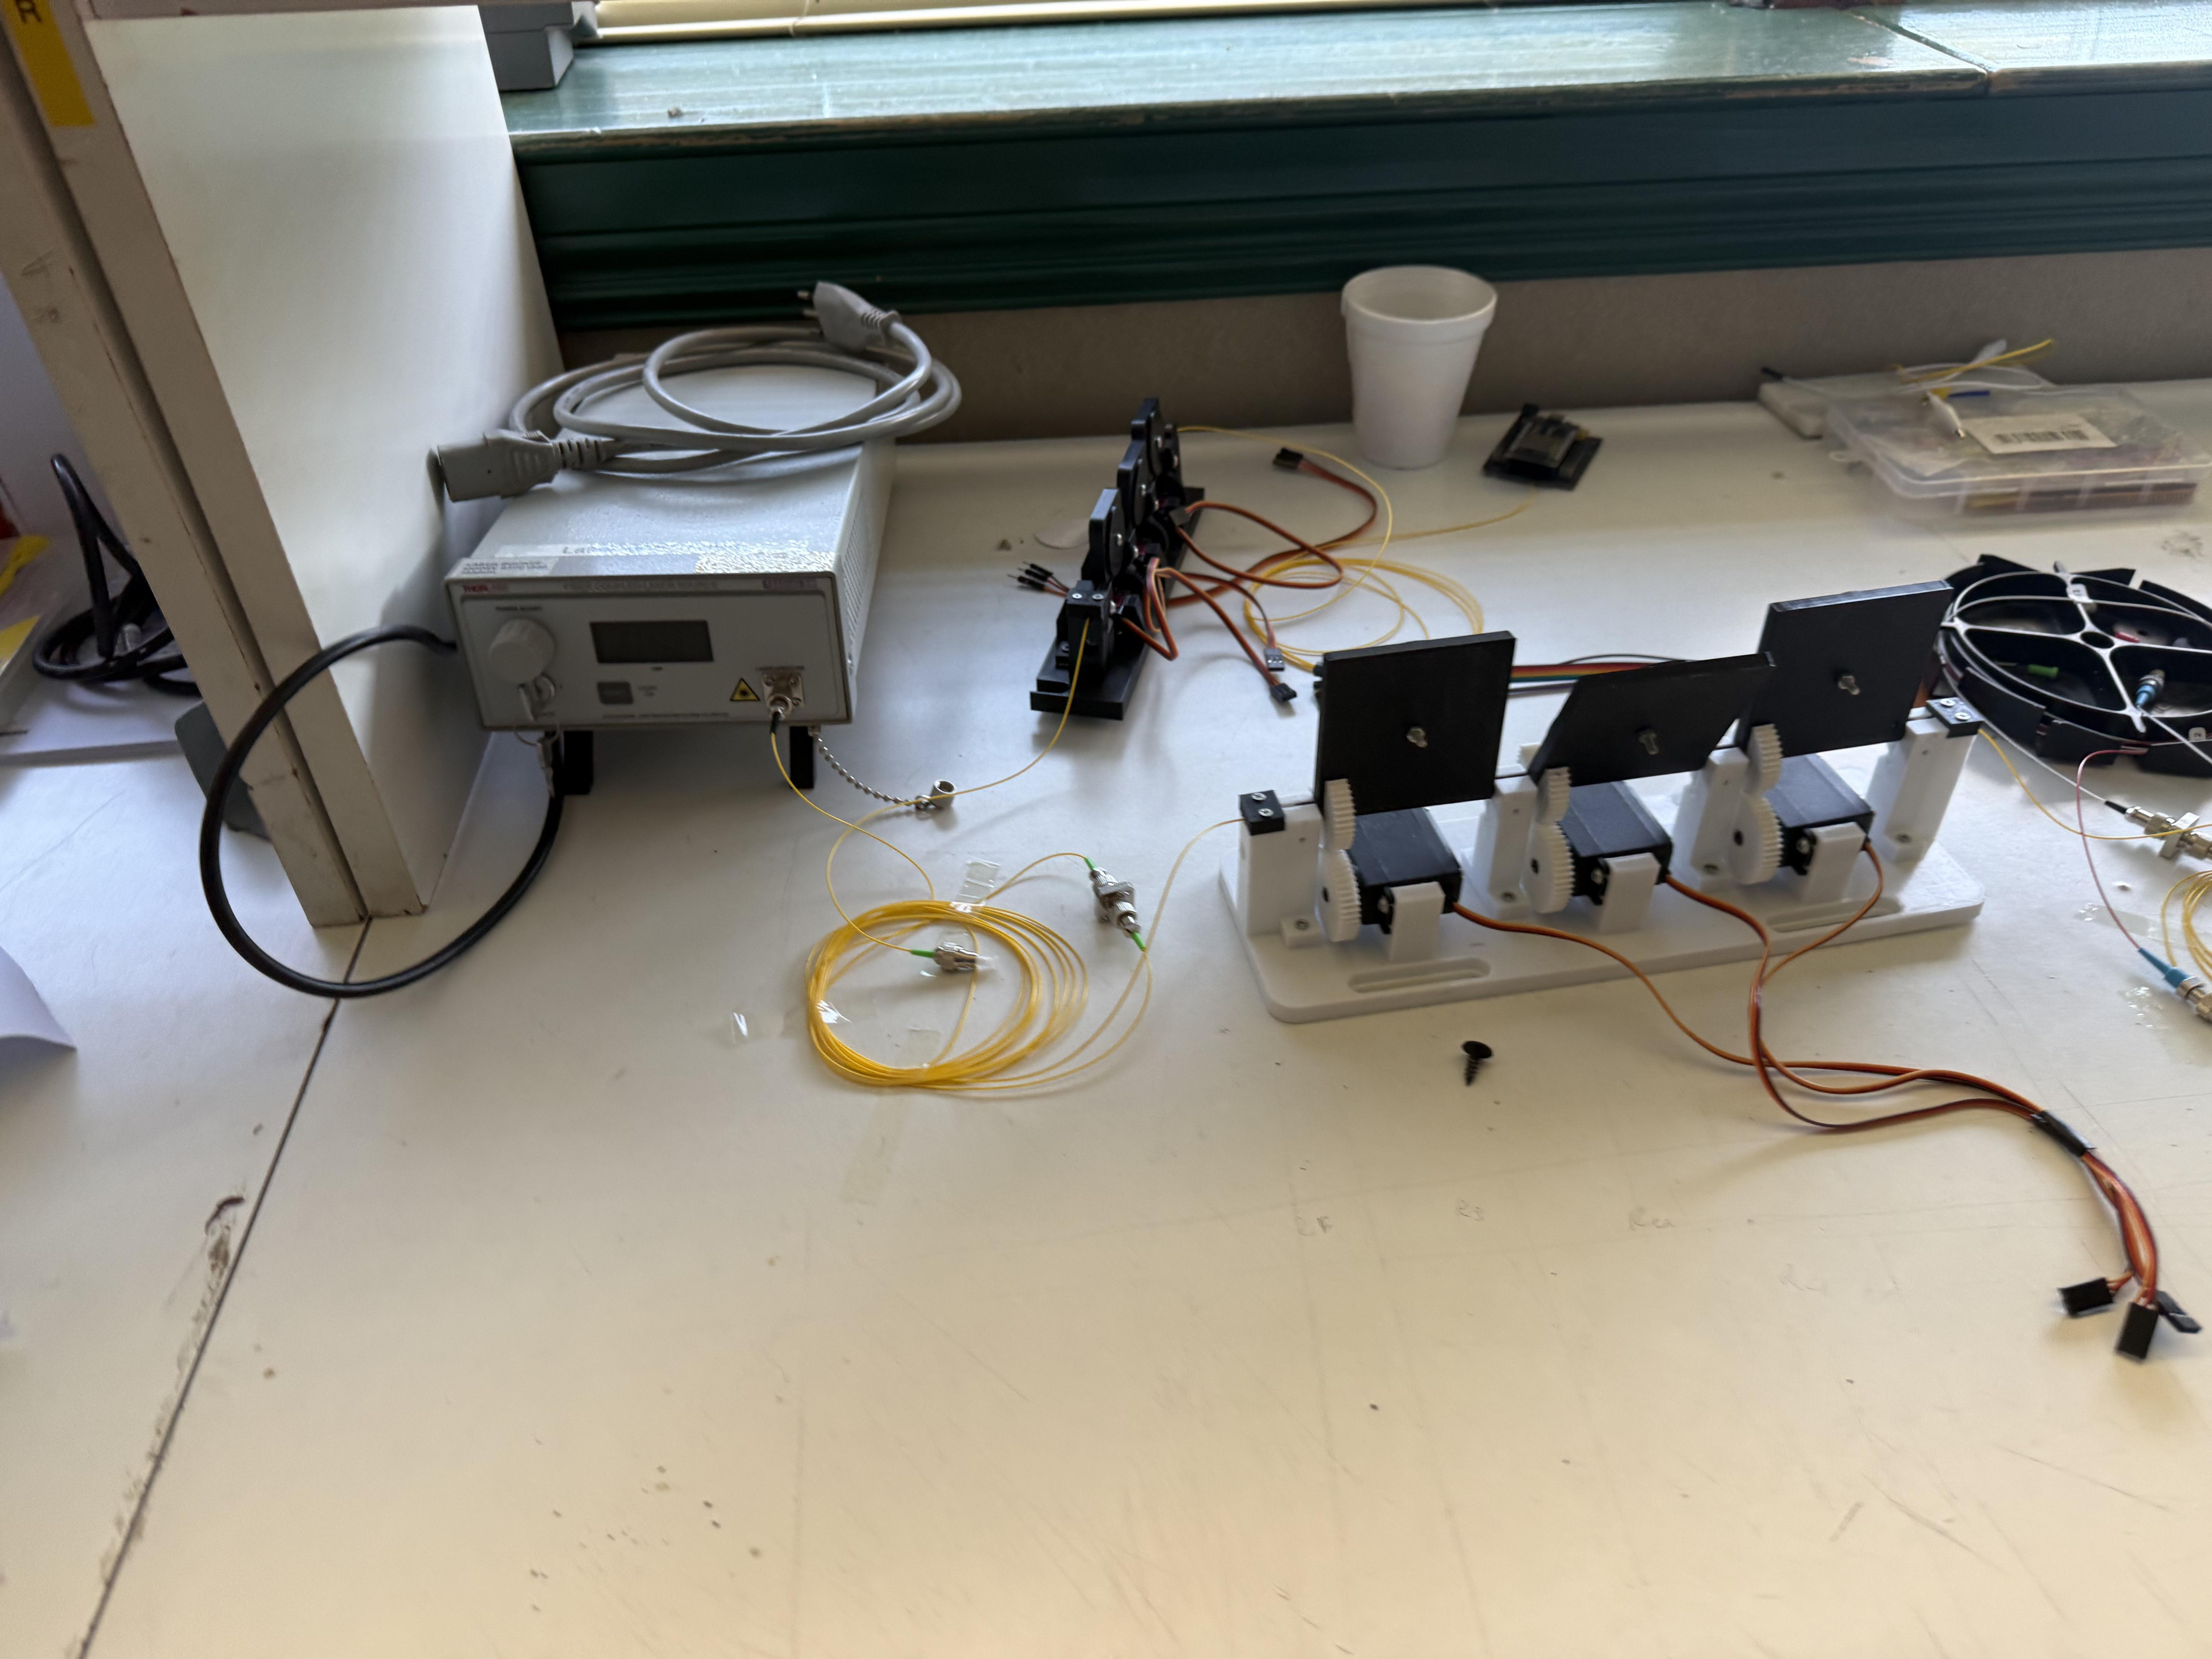fiber_cable: (722, 823, 1199, 1130)
laser: (431, 341, 912, 807)
paddle_polarization_controller: (1221, 567, 1975, 964), (1022, 392, 1206, 733)
